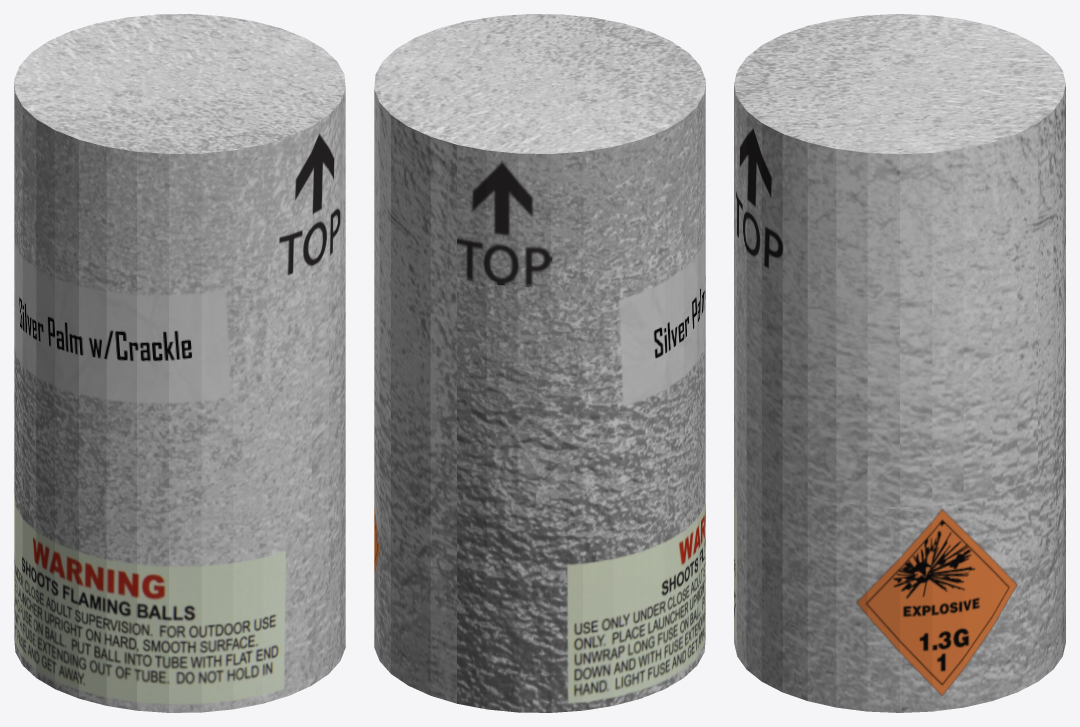
Rendered from Shell Canister 3 Inch SilverPalmCrackle.fbx.
3 views of the same model, side by side, from view 1: azimuth 30°, elevation 25°; view 2: azimuth 150°, elevation 25°; view 3: azimuth 270°, elevation 25° (orthographic).
Parts seen in each view (by area): view 1: Cylinder; view 2: Cylinder; view 3: Cylinder.
Part boxes in pixels (x1,y1,x2,y2): Cylinder: (14, 14, 345, 712); Cylinder: (374, 14, 705, 712); Cylinder: (734, 14, 1065, 712).
Bounding box in the file's own units: 14 × 26 × 14.
